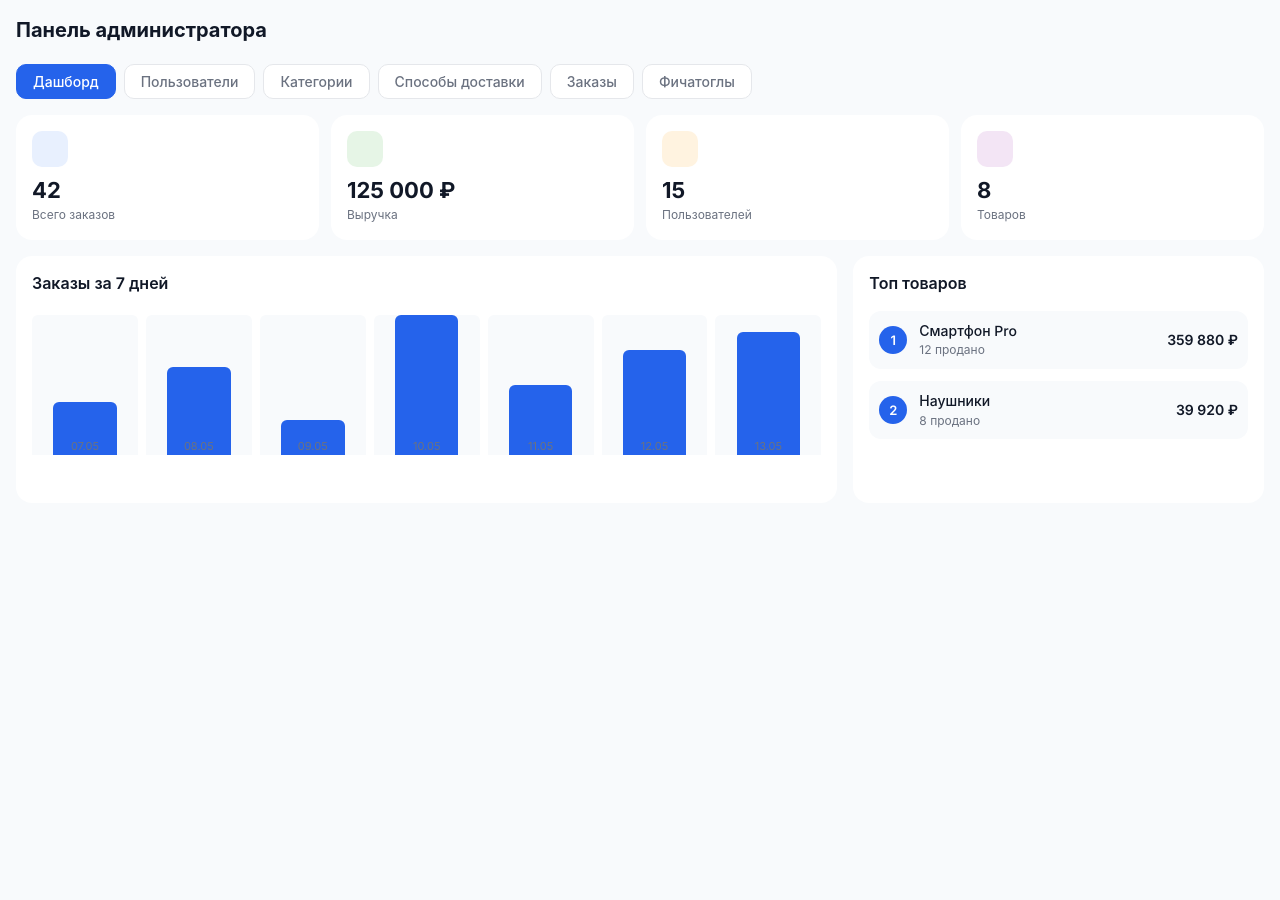
Test: Admin.vue › показывает empty-state для вкладки без потомков
Click the button with test id "admin-section-tab-categories".
click(316, 82)  # box [263, 64, 370, 99]
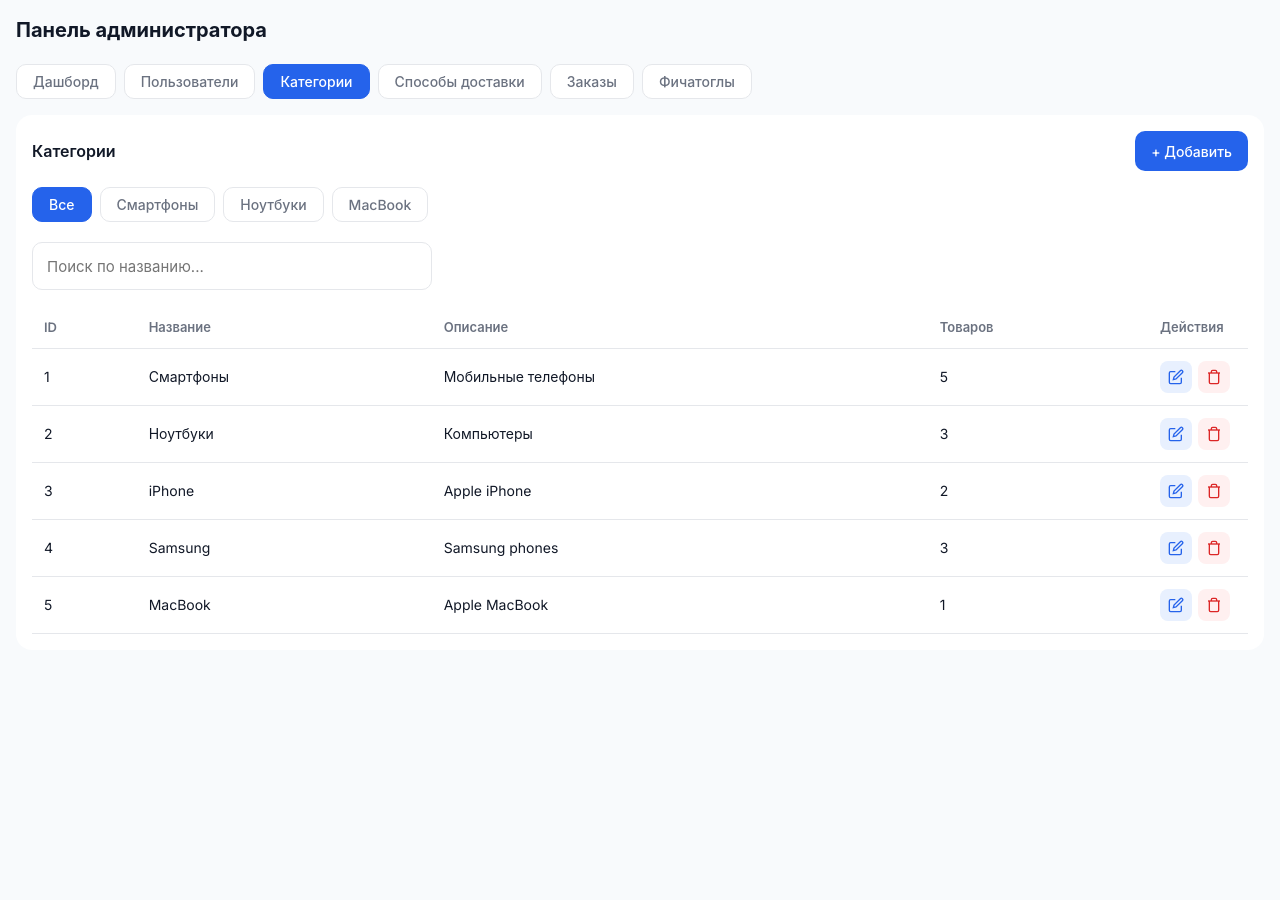
Click the button with test id "category-tab-2".
click(273, 204)  # box [223, 187, 324, 222]
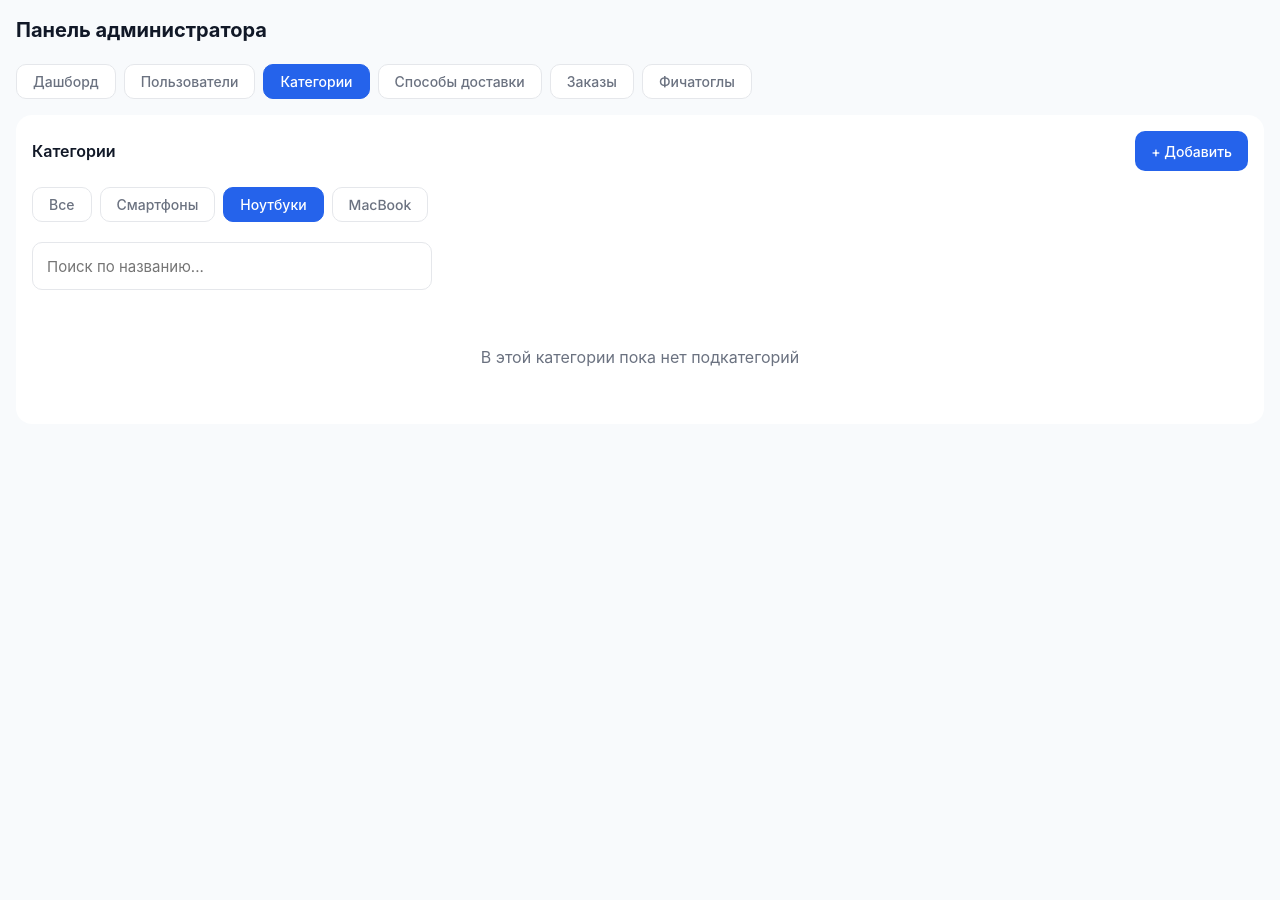
Now the text with test id "categories-empty" reads "В этой категории пока нет подкатегорий", box [481, 347, 799, 367]
